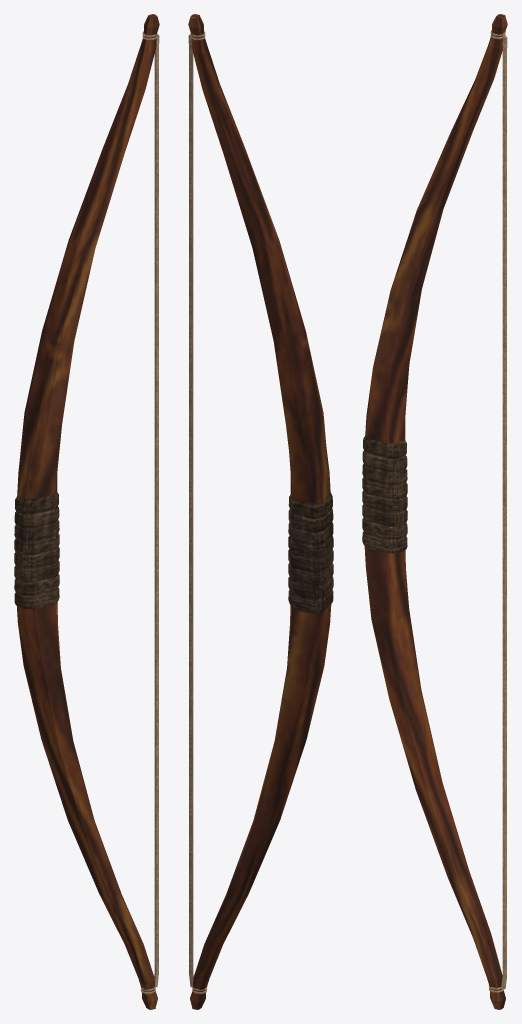
Rendered from Arco-Curto.glb.
3 renders of one model, left to right at view 1: azimuth 30°, elevation 25°; view 2: azimuth 150°, elevation 25°; view 3: azimuth 330°, elevation 25°, orthographic.
Parts seen in each view (by area): view 1: Corpo de madeira, Empunhadura enrolada, Corda esticada; view 2: Corpo de madeira, Empunhadura enrolada, Corda esticada; view 3: Corpo de madeira, Empunhadura enrolada, Corda esticada.
Part boxes in pixels (left/top/right/bottom): Corpo de madeira: left=17, top=14, right=159, bottom=1009; Empunhadura enrolada: left=14, top=492, right=59, bottom=609; Corda esticada: left=154, top=34, right=159, bottom=987; Corpo de madeira: left=188, top=14, right=331, bottom=1009; Empunhadura enrolada: left=288, top=492, right=333, bottom=613; Corda esticada: left=188, top=34, right=193, bottom=987; Corpo de madeira: left=364, top=14, right=507, bottom=1009; Empunhadura enrolada: left=362, top=435, right=407, bottom=553; Corda esticada: left=501, top=35, right=507, bottom=989.
Bounding box in the file's own units: 0.159 × 1.07 × 0.0436.
Materials: 3 (3 with a texture image).
